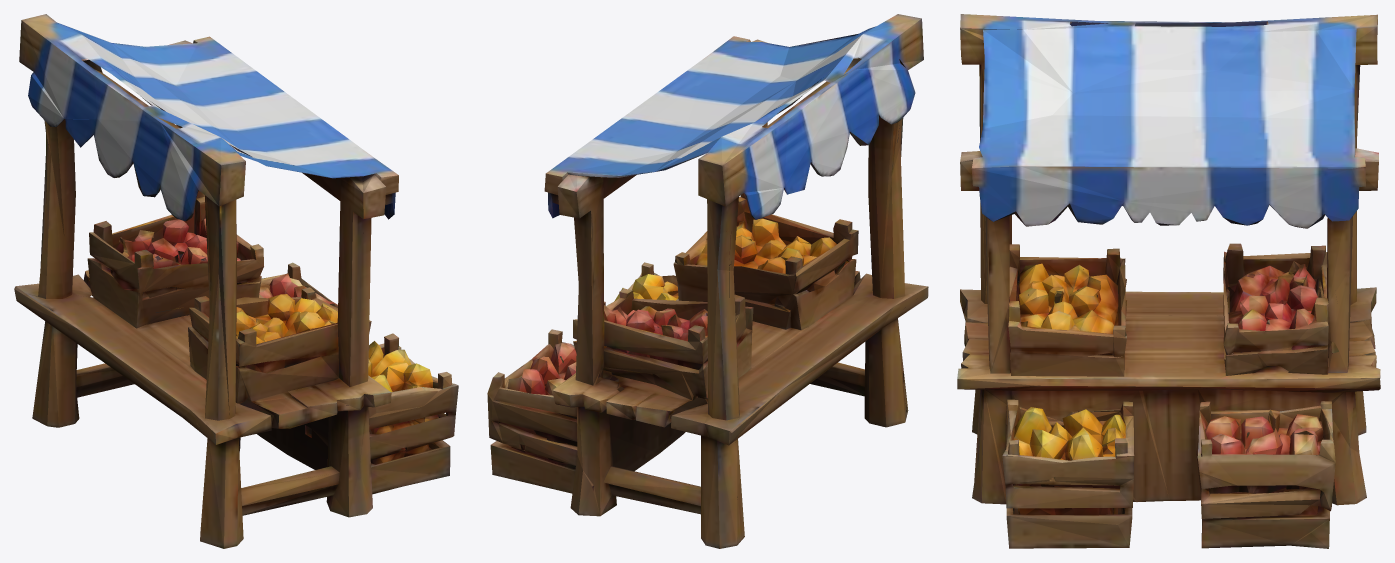
File: stall.glb
3 renders of one model, left to right at view 1: azimuth 30°, elevation 25°; view 2: azimuth 150°, elevation 25°; view 3: azimuth 270°, elevation 25°, orthographic. The views are drawn at different scales.
Parts seen in each view (by area): view 1: geometry_0; view 2: geometry_0; view 3: geometry_0.
Part boxes in pixels (x1,y1,x2,y2): geometry_0: (14,14,458,548); geometry_0: (487,14,928,548); geometry_0: (957,14,1380,548).
Bounding box in the file's own units: 0.7207 × 0.995 × 0.936.
Materials: 1 (1 with a texture image).
